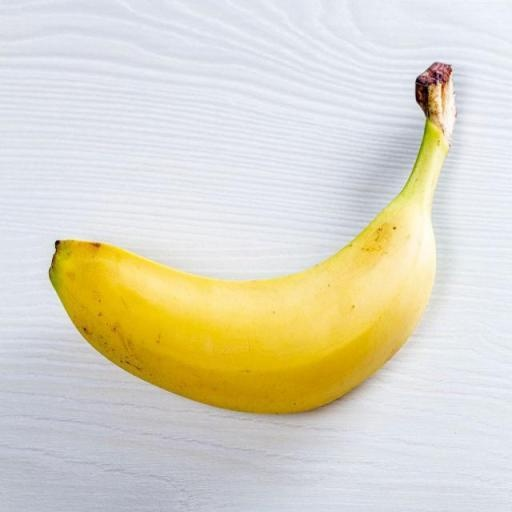fruit: (417, 61, 481, 214)
